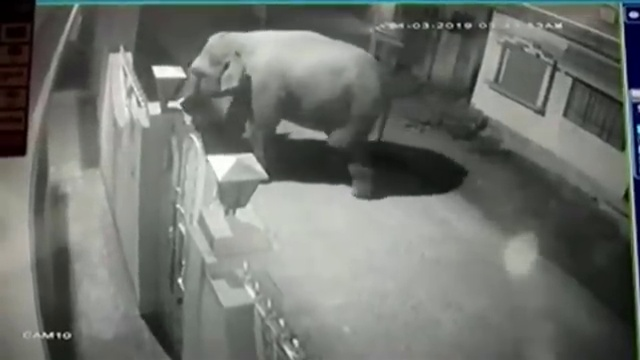Elephant: (174, 30, 392, 201)
